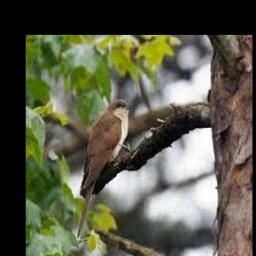Cuckoo: (77, 99, 133, 238)
